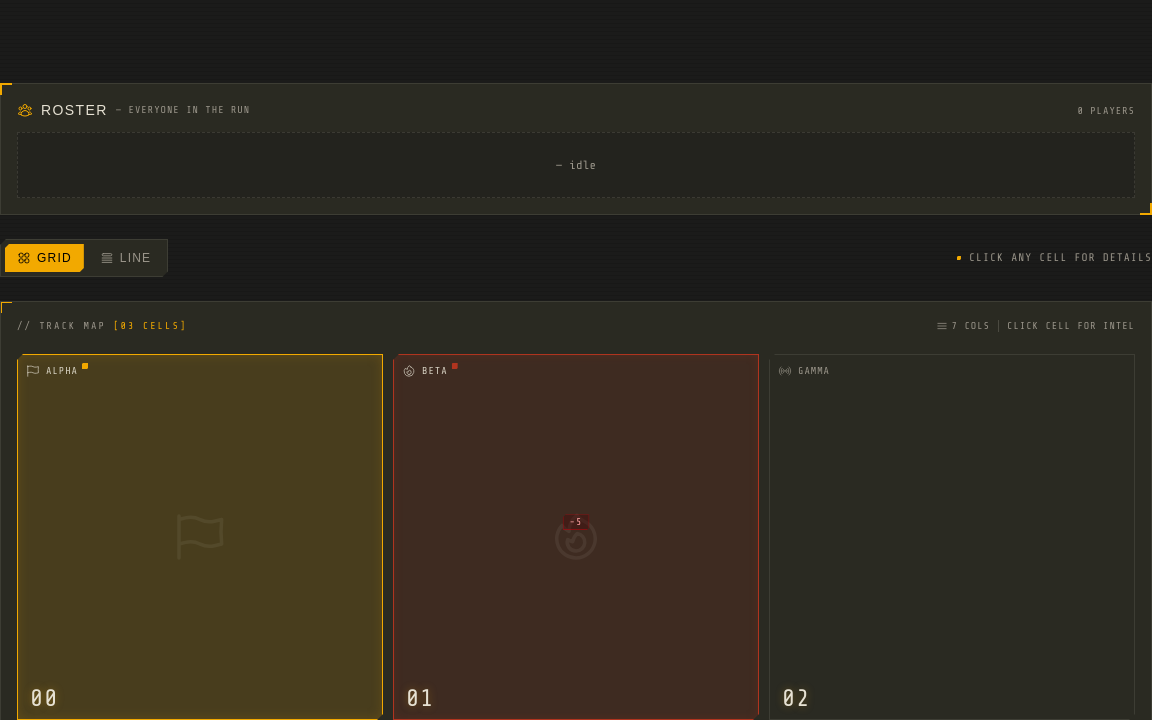
Test: BoardView cell details › steps to the next cell and disables the edges
Click the button "Alpha 00" at [200, 537], box [17,354,383,719]
(page scrolled)
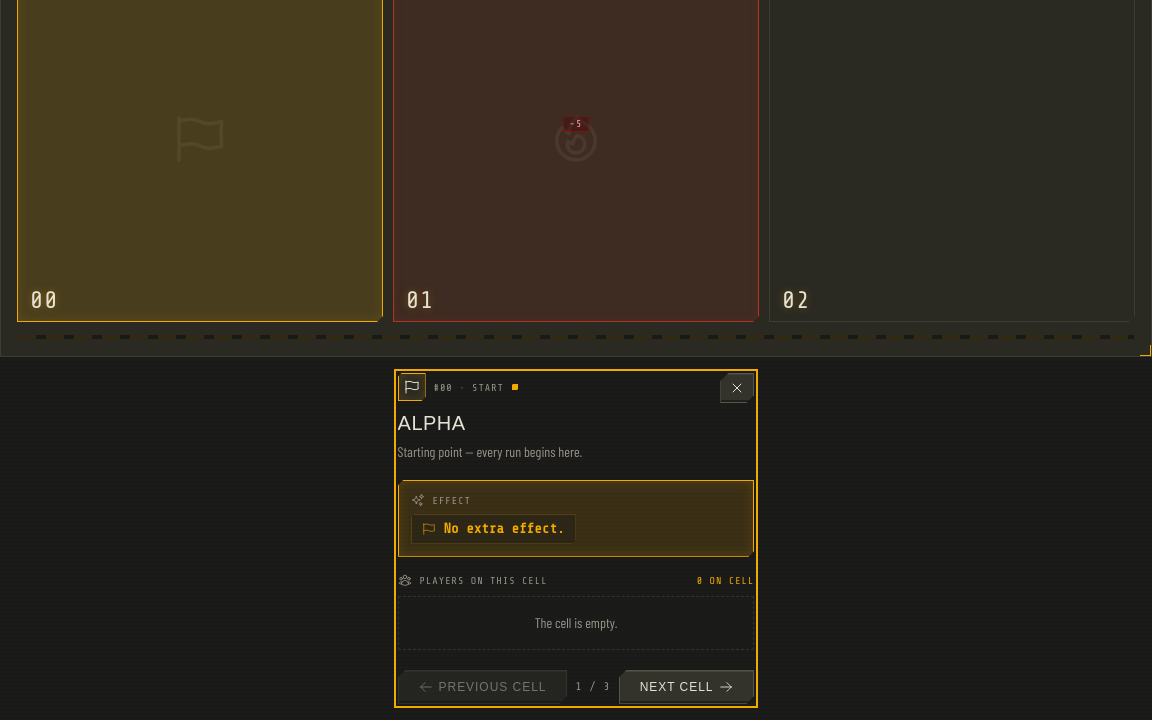
Expected: the button "Previous cell" is disabled, [398,670,568,704]
Expected: the button "Next cell" is enabled
Click the button "Next cell" at [686, 687], box [619,670,754,704]
(page scrolled)
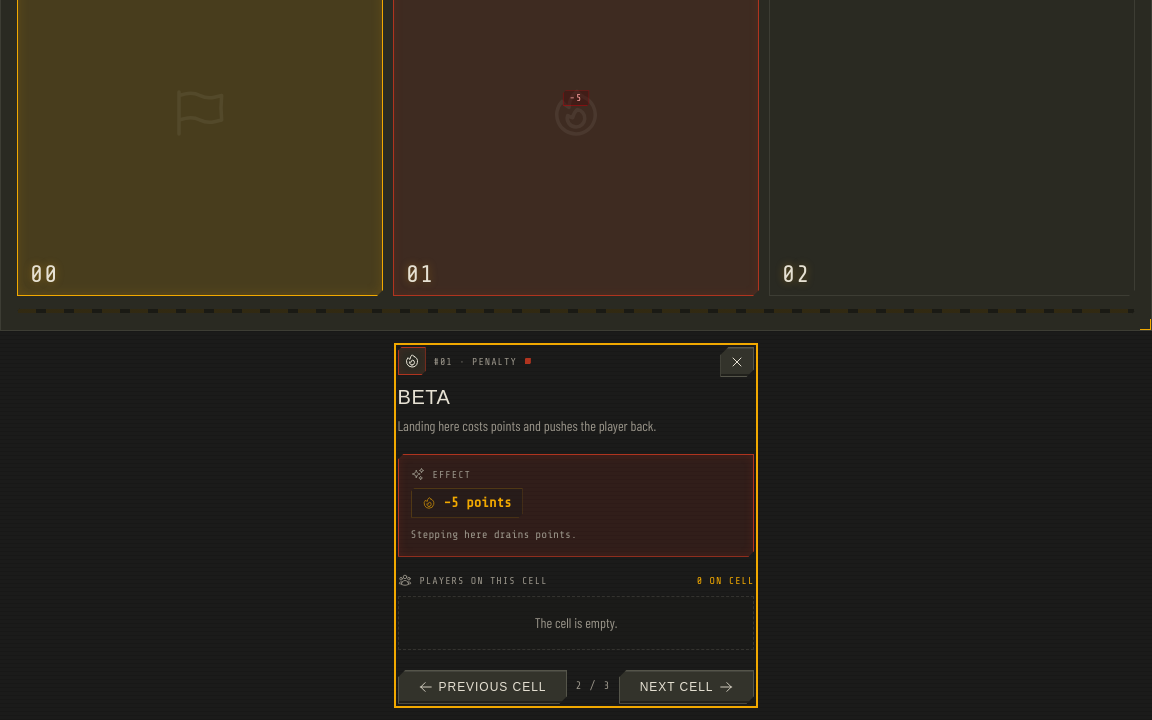
Expected: the dialog shows "Beta", [398,386,450,408]
Expected: the button "Previous cell" is enabled, [398,670,568,704]
